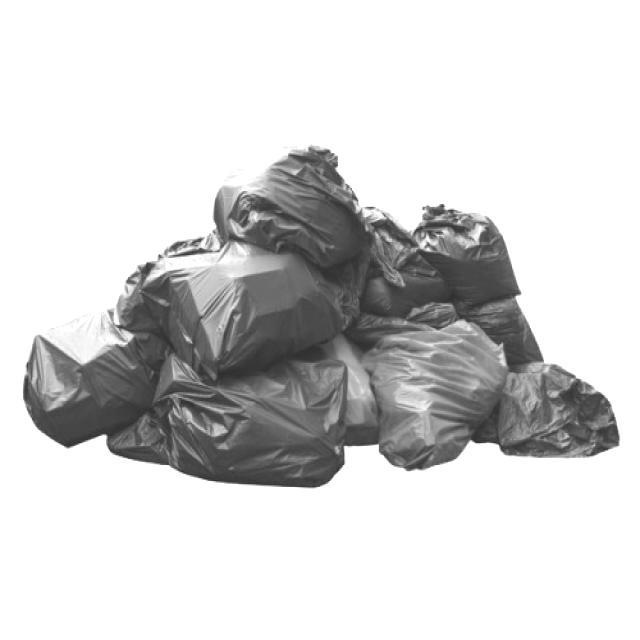high trash: (24, 146, 619, 486)
